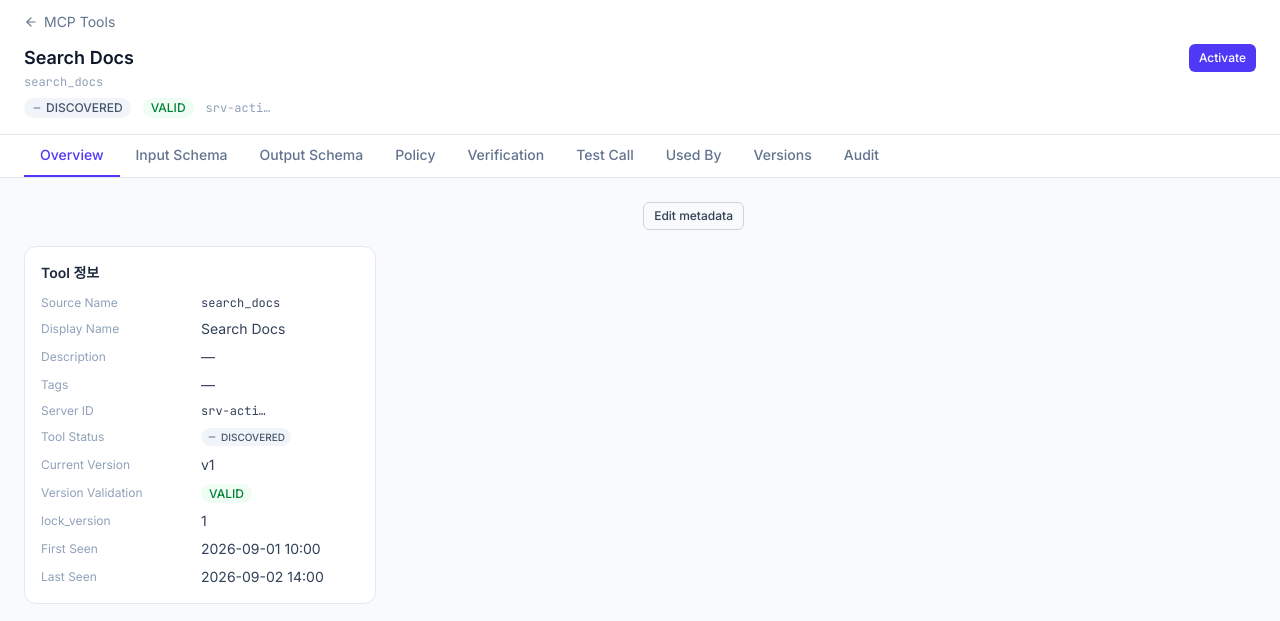
Test: MCPToolDetail — API detail › renders input schema via JsonViewer
Expected: the heading "Search Docs" is shown, [24,47,134,68]
Click the button "Input Schema": click(182, 156) [120,135,244,177]
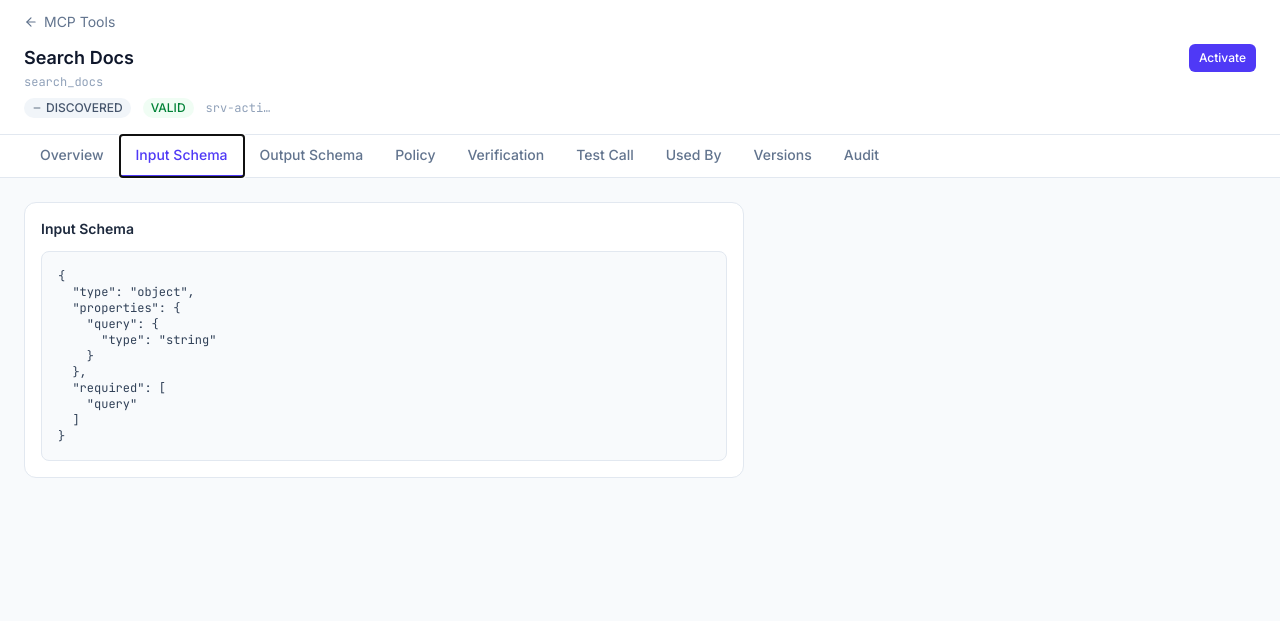
Now the text "\"query\"" is shown, box [58,268,216,444]
